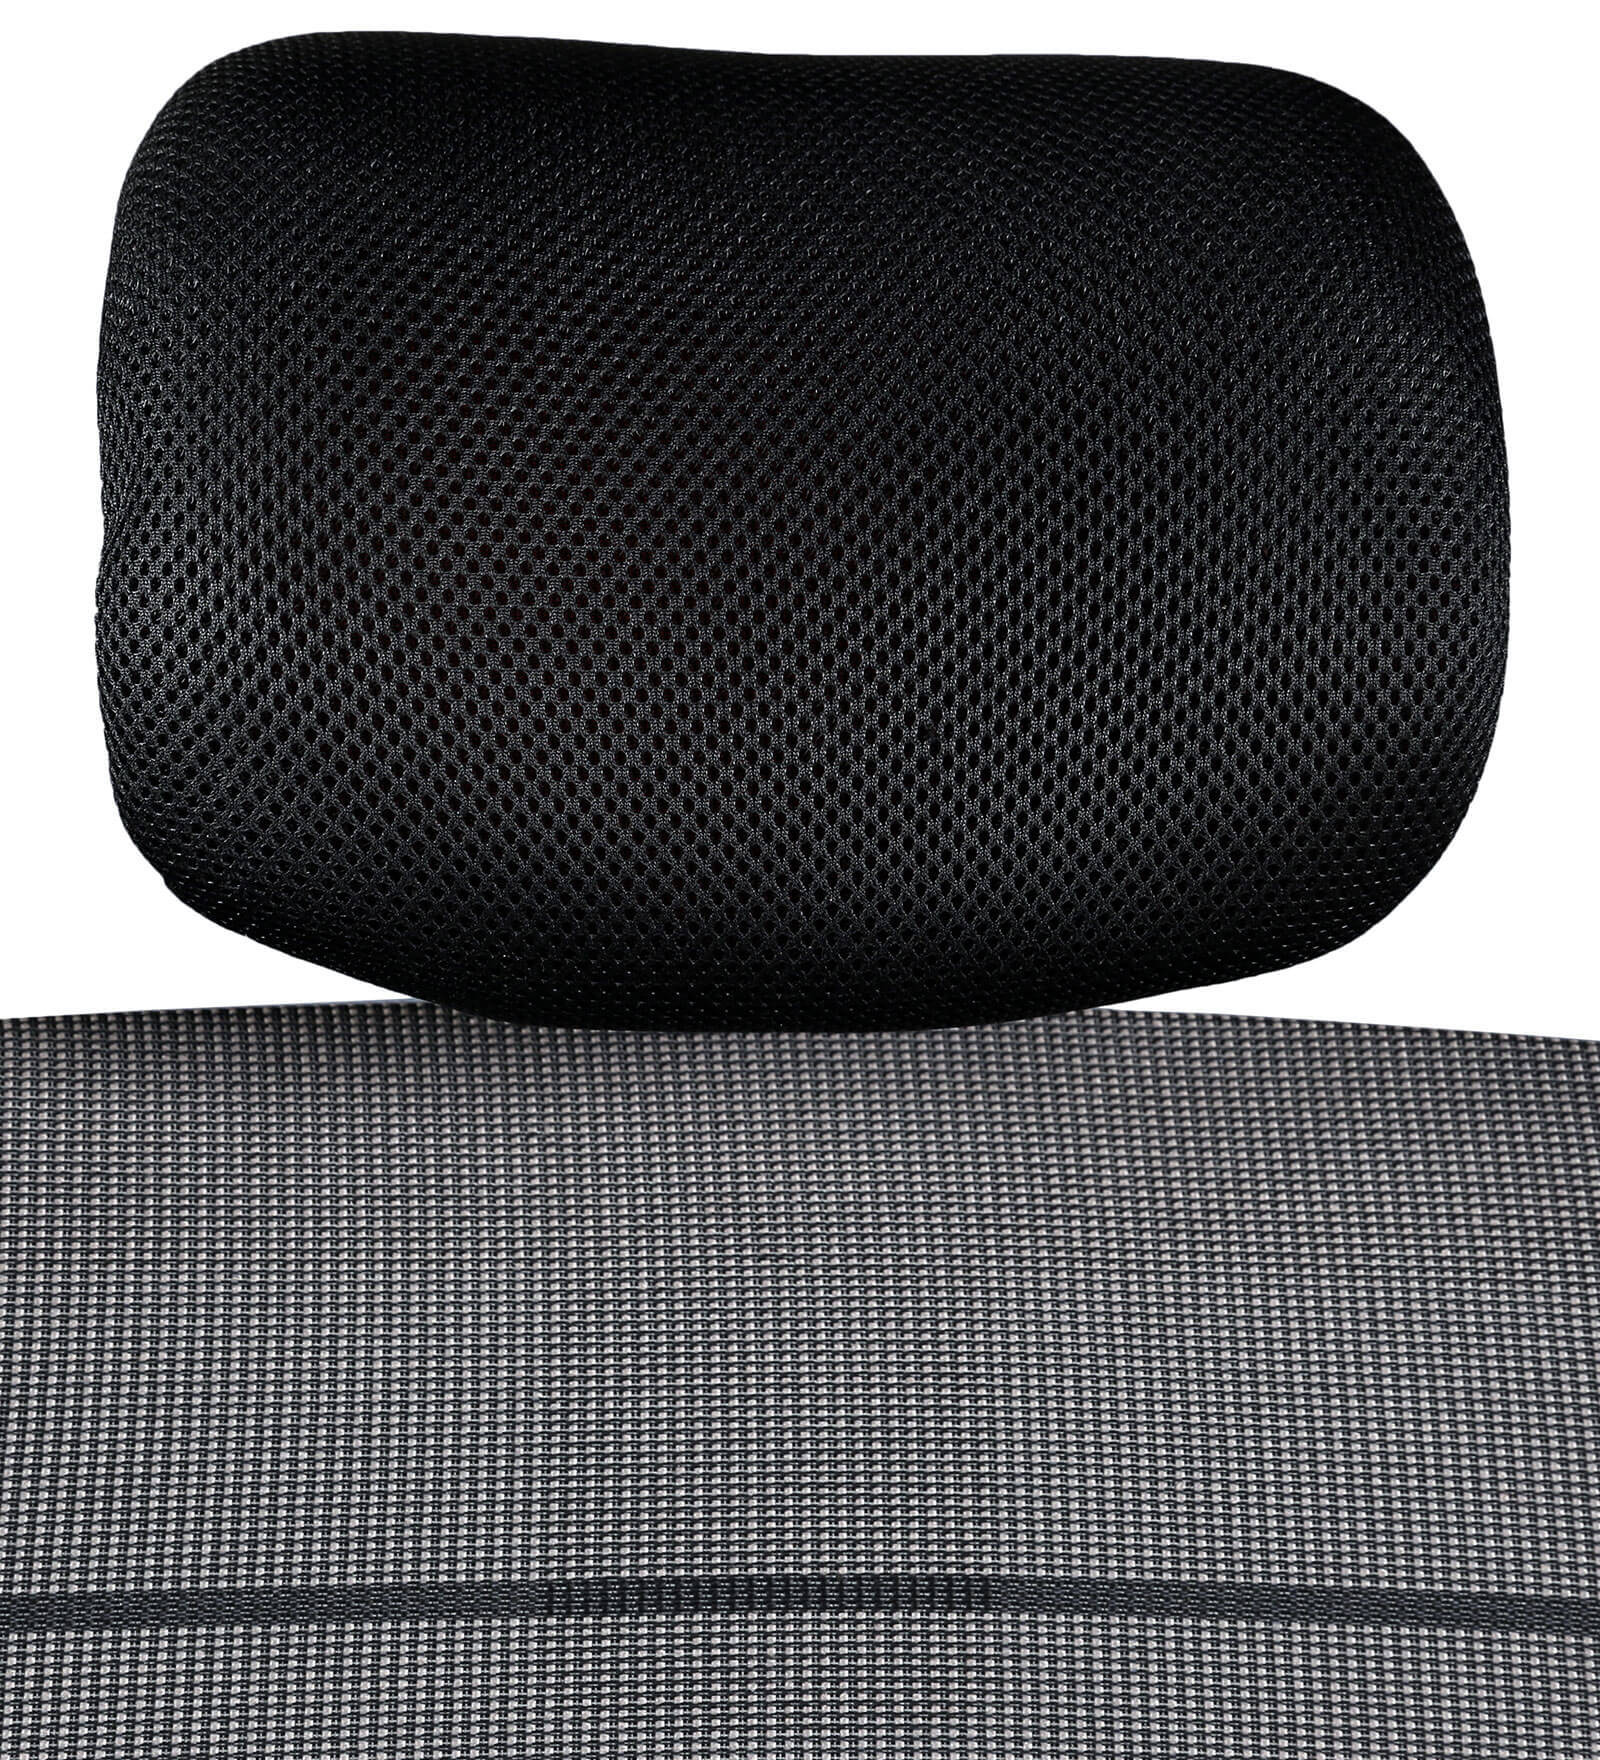Ergo High Back Ergonomic Chair in Black Colour by HomeTown: (14, 26, 1600, 1749)
